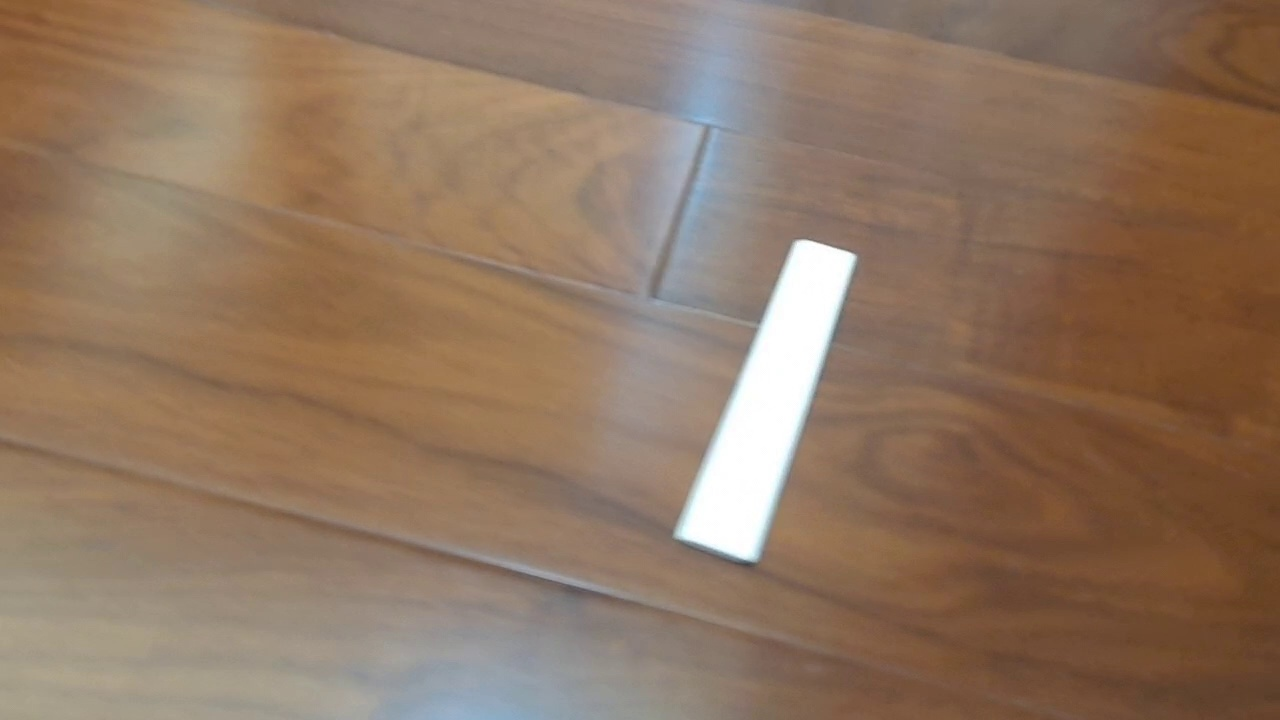ruler: (671, 237, 860, 568)
